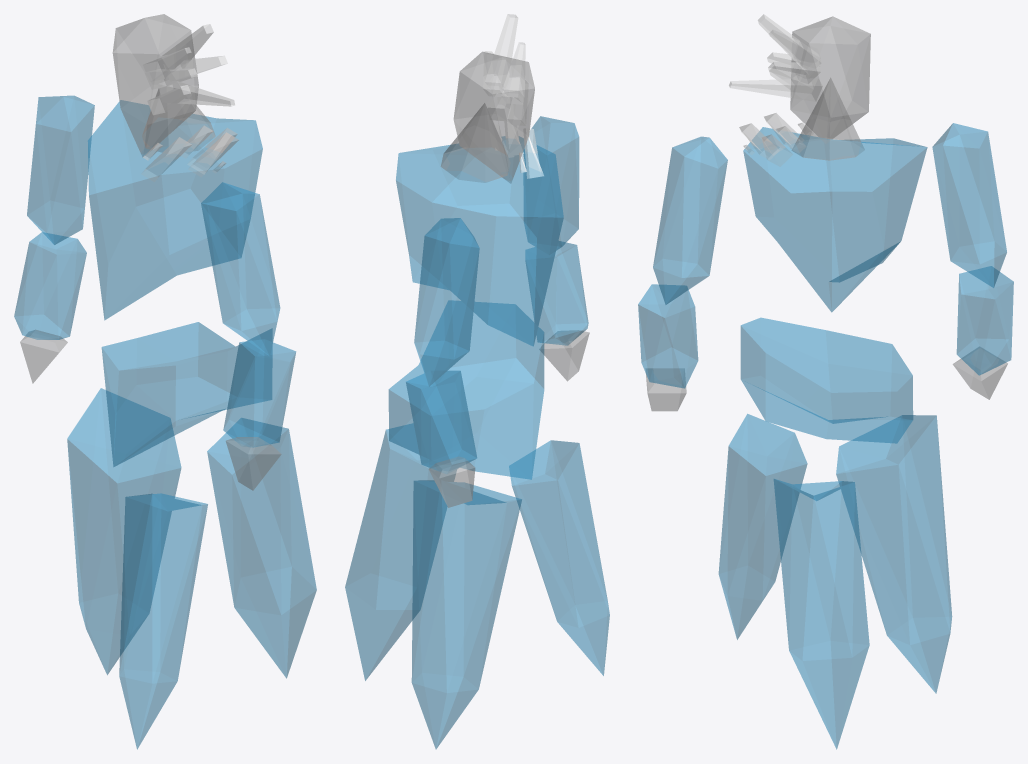
File: ghostIdle22.obj
The picture shows the model from 3 angles, left to right: view 1: azimuth 30°, elevation 25°; view 2: azimuth 150°, elevation 25°; view 3: azimuth 270°, elevation 25°; orthographic projection. The views are drawn at different scales.
Visible parts, largest first — view 1: Cube.001_Cube.001, Icosphere.005, Icosphere.004, Cube_Cube.002, Icosphere.003, Icosphere.005_Icosphere.001, Icosphere.003_Icosphere.001, Icosphere.007_Icosphere.001, Icosphere.008_Icosphere.001, Icosphere.006_Icosphere.001, Cone_Cone.002, Cube.002_Cube.001 (+10 smaller); view 2: Cube.001_Cube.001, Cube_Cube.002, Icosphere.005, Icosphere.004, Icosphere.003, Icosphere.007_Icosphere.001, Icosphere.003_Icosphere.001, Icosphere.005_Icosphere.001, Icosphere.008_Icosphere.001, Icosphere.006_Icosphere.001, Cone_Cone.002, Cube.003_Cube.001 (+5 smaller); view 3: Cube.001_Cube.001, Icosphere.005, Icosphere.004, Cube_Cube.002, Icosphere.003, Icosphere.005_Icosphere.001, Icosphere.007_Icosphere.001, Icosphere.003_Icosphere.001, Icosphere.006_Icosphere.001, Icosphere.008_Icosphere.001, Cone_Cone.002, Cube.003_Cube.001 (+4 smaller).
Boxes of the visible parts, x1,y1,x2,y2 form: Cube.001_Cube.001: [88, 100, 262, 320]; Icosphere.005: [67, 388, 181, 674]; Icosphere.004: [207, 418, 316, 678]; Cube_Cube.002: [101, 322, 272, 466]; Icosphere.003: [119, 493, 207, 749]; Icosphere.005_Icosphere.001: [201, 182, 280, 356]; Icosphere.003_Icosphere.001: [112, 14, 198, 156]; Icosphere.007_Icosphere.001: [27, 95, 94, 244]; Icosphere.008_Icosphere.001: [14, 232, 86, 339]; Icosphere.006_Icosphere.001: [223, 339, 295, 447]; Cone_Cone.002: [143, 89, 215, 152]; Cube.002_Cube.001: [226, 437, 281, 490]; Cube.001_Cube.001: [396, 136, 563, 346]; Cube_Cube.002: [388, 300, 544, 479]; Icosphere.005: [411, 480, 521, 749]; Icosphere.004: [345, 423, 456, 680]; Icosphere.003: [509, 440, 609, 675]; Icosphere.007_Icosphere.001: [414, 218, 479, 386]; Icosphere.003_Icosphere.001: [453, 51, 534, 183]; Icosphere.005_Icosphere.001: [523, 116, 579, 254]; Icosphere.008_Icosphere.001: [406, 370, 476, 473]; Icosphere.006_Icosphere.001: [525, 241, 588, 345]; Cone_Cone.002: [441, 103, 507, 182]; Cube.003_Cube.001: [429, 457, 475, 507]; Cube.001_Cube.001: [743, 127, 927, 312]; Icosphere.005: [836, 415, 952, 693]; Icosphere.004: [773, 479, 869, 749]; Cube_Cube.002: [740, 317, 913, 443]; Icosphere.003: [718, 414, 807, 639]; Icosphere.005_Icosphere.001: [653, 136, 727, 304]; Icosphere.007_Icosphere.001: [932, 123, 1006, 287]; Icosphere.003_Icosphere.001: [790, 16, 870, 138]; Icosphere.006_Icosphere.001: [638, 284, 698, 388]; Icosphere.008_Icosphere.001: [956, 266, 1013, 375]; Cone_Cone.002: [792, 78, 864, 160]; Cube.003_Cube.001: [953, 347, 1007, 399].
Size of the model in its own units: 16.54 by 49.71 by 24.8.
